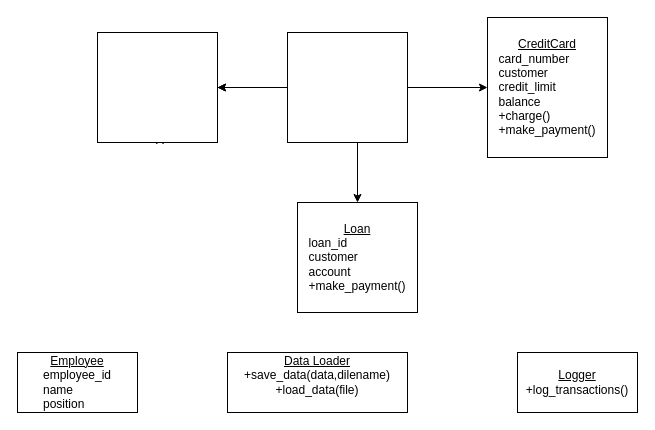
Some shapes in this 655 by 430 pixel diagram are drawn without their labels. The centre of each missing label's shape, as x and y in pixels:
Account account_type balance +deposit() +withdraw: (157,87)
Customer first_name last_name address accounts +add_account(): (347,87)
